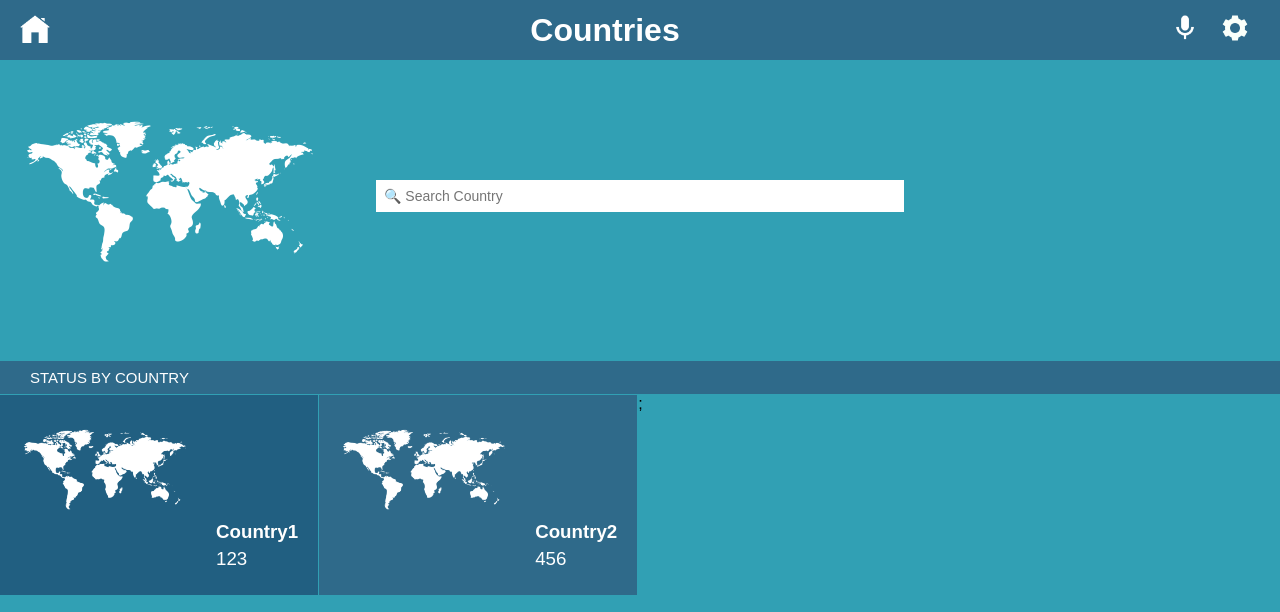
it: Home component › Should filters list of countries by using Input
In the field with placeholder "🔍 Search Country": x=640, y=196 [376,180,904,212], type "country2"
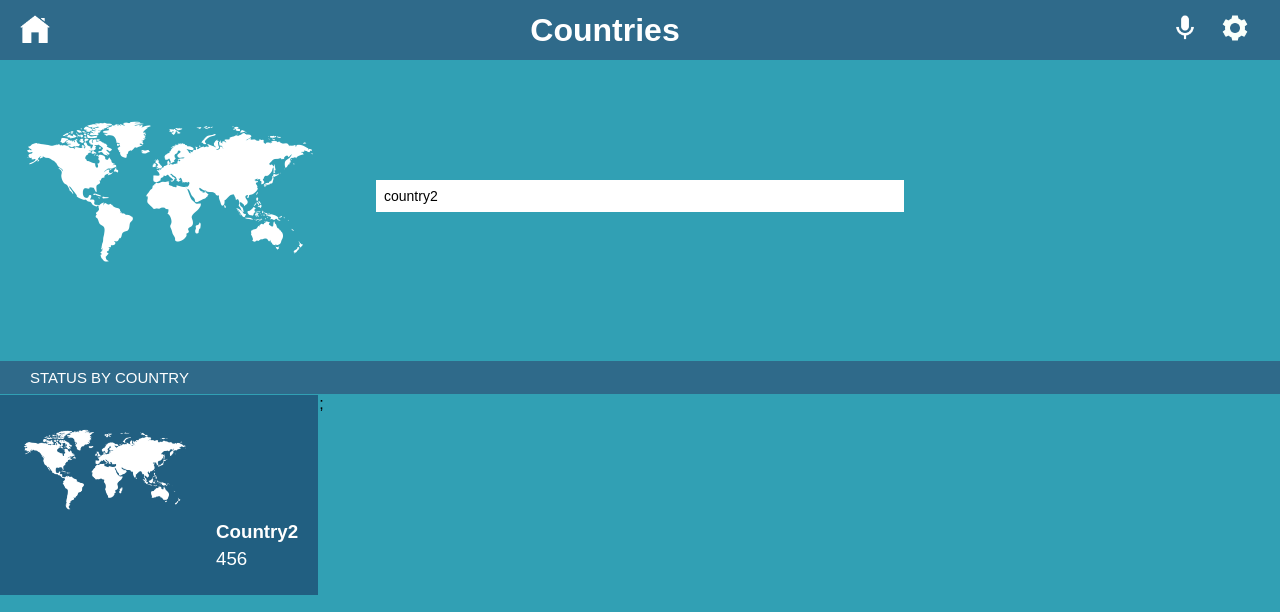
Check: the heading "Country2" is shown, box [216,521,298,543]
Check: the link "Country1" is gone
